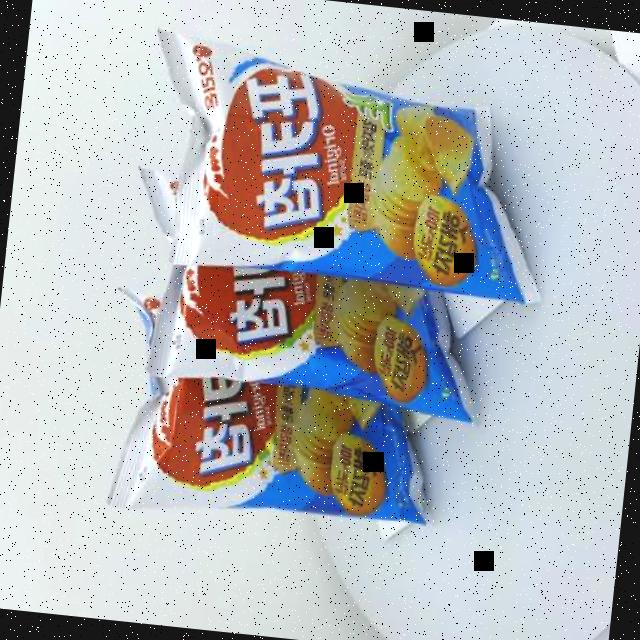snack_bag: (64, 14, 586, 604)
